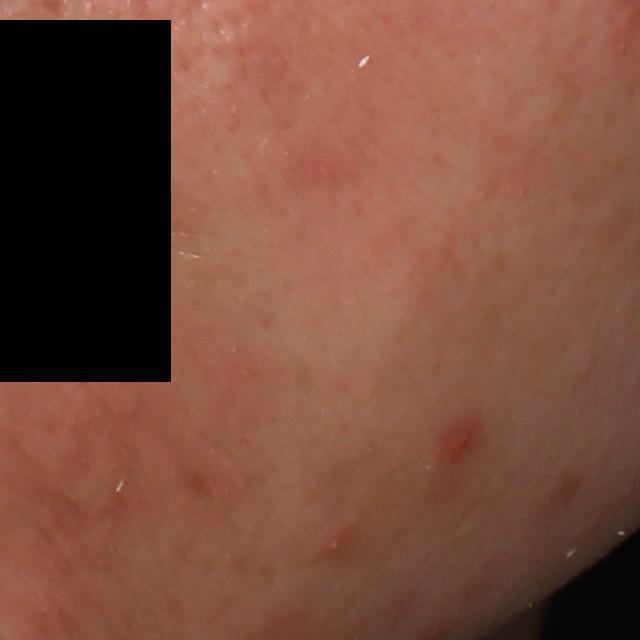papule: (319, 528, 350, 560)
